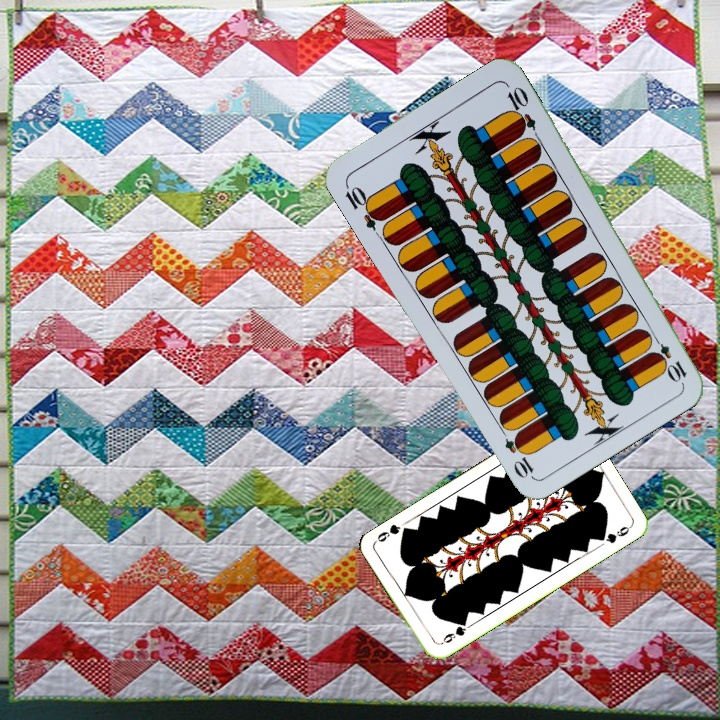E10: (341, 179, 386, 233), (647, 330, 690, 384)
G9: (436, 618, 469, 648)
